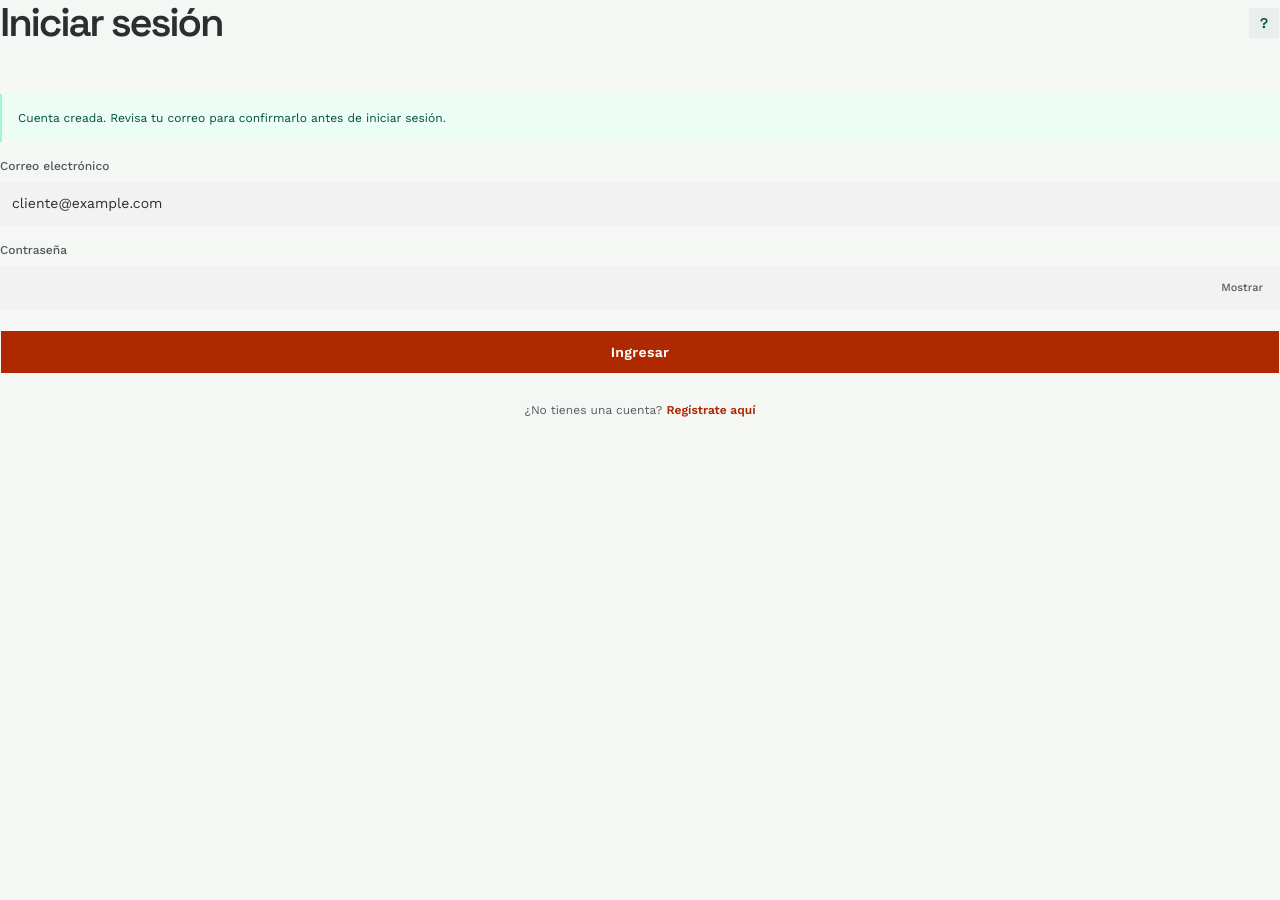
Login confirmation feedback › shows resend success in the modal and refreshes the email on reopening
Click the button named "¿No te llegó el correo de confirmación?".
click(1264, 23)  # box [1248,7,1279,39]
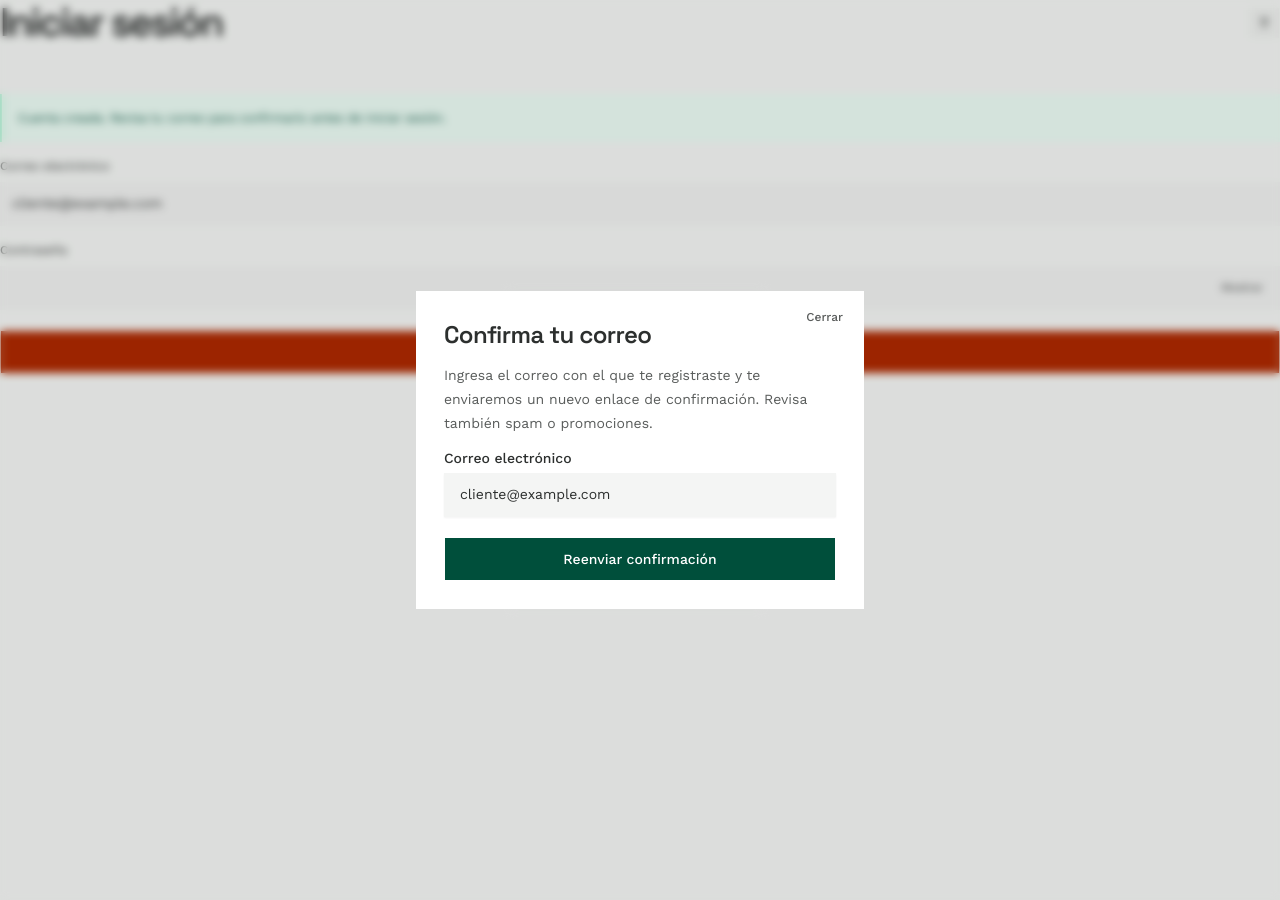
Submit the form "Reenviar confirmación", box [444,451,836,581]
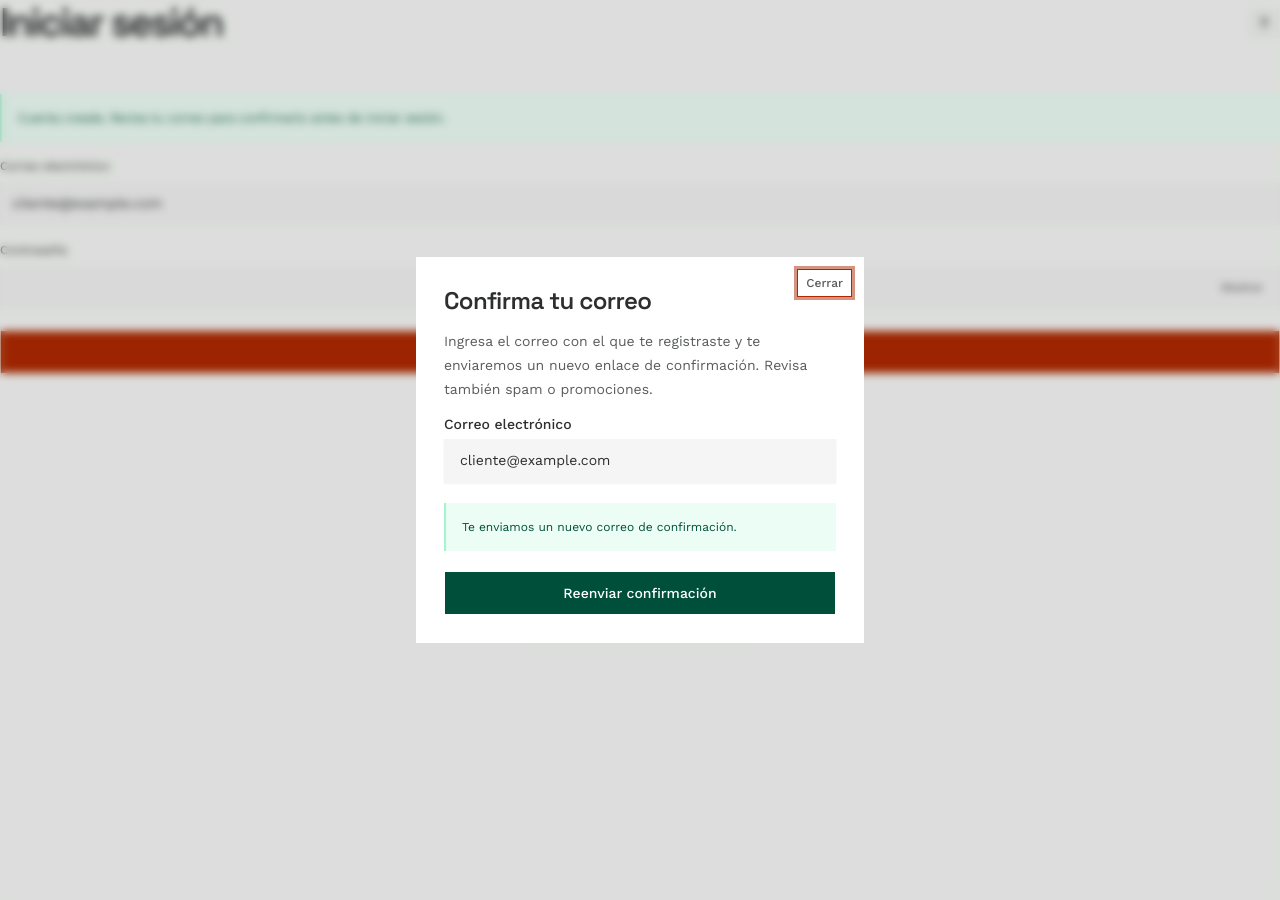
Expected: the message shows "Te enviamos un nuevo correo", [462,520,737,534]
Click the button "Cerrar".
click(825, 283)  # box [797,269,852,297]
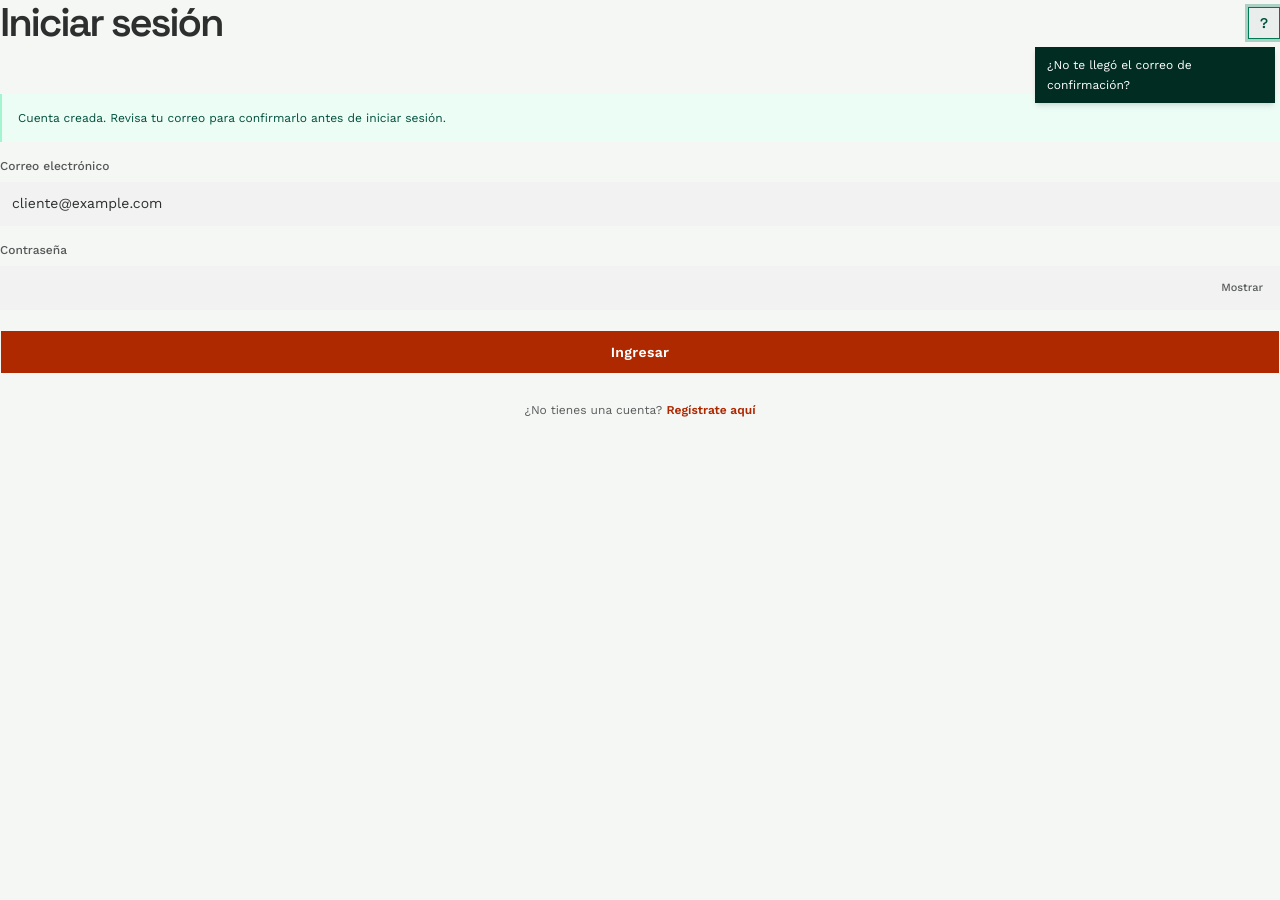
Expected: the dialog is gone
Replace the text in the field labelled "Correo electrónico" with "nuevo@example.com" at coordinates (640, 204), box [0,182,1279,226]
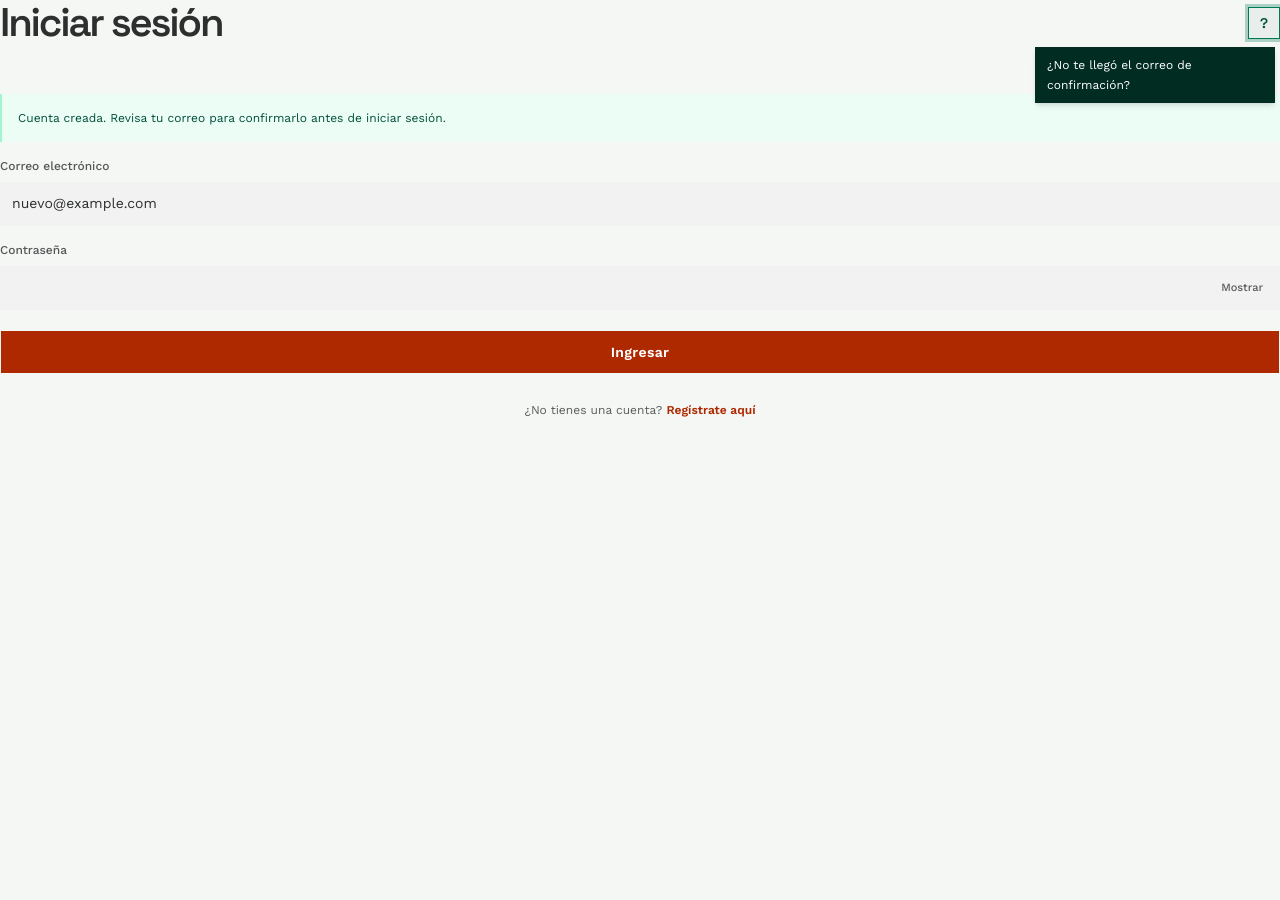
Click the button named "¿No te llegó el correo de confirmación?".
click(1264, 23)  # box [1248,7,1279,39]
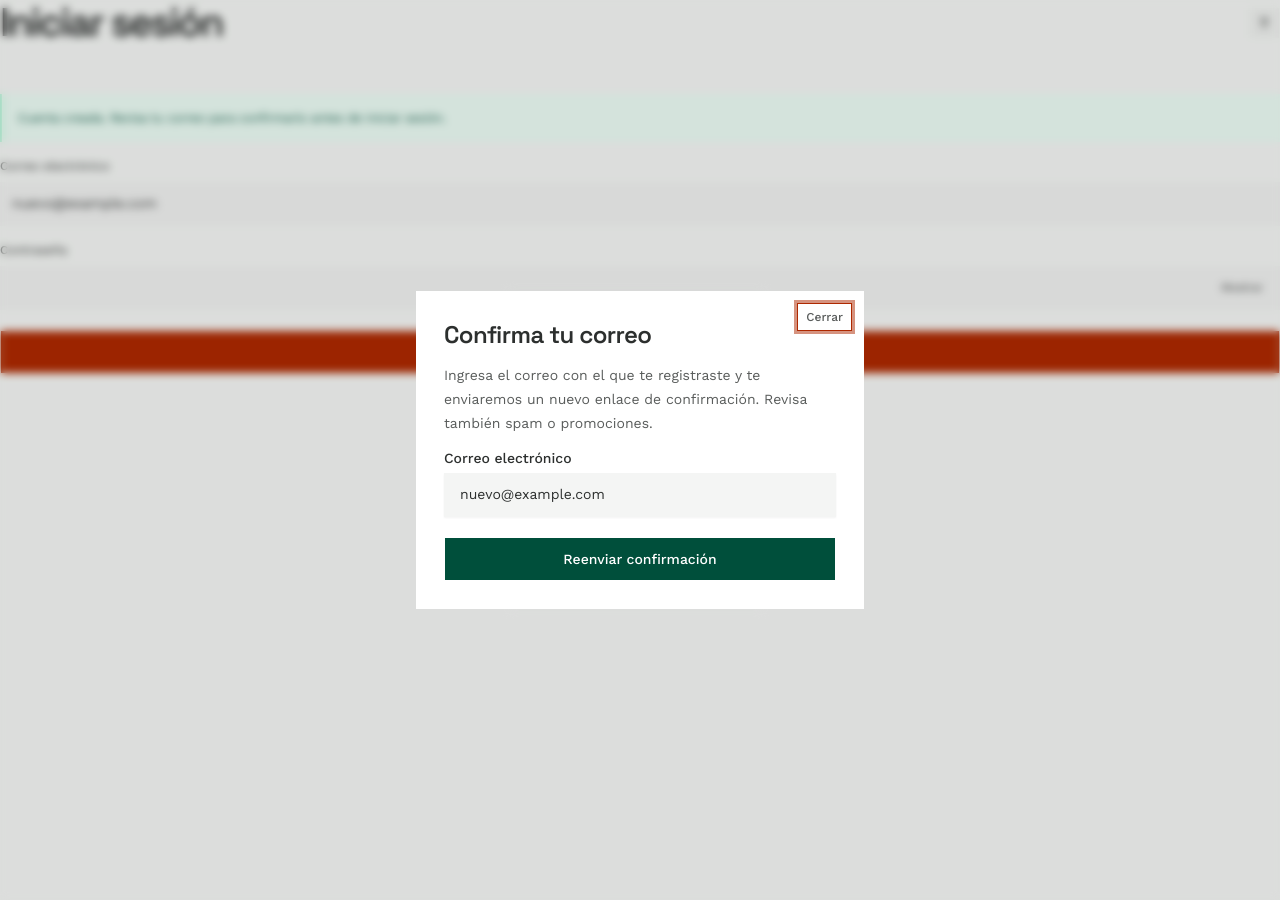
Expected: the message "Te enviamos un nuevo correo de confirmación." is not shown
Expected: the field labelled "Correo electrónico" holds "nuevo@example.com", [444,473,836,517]
